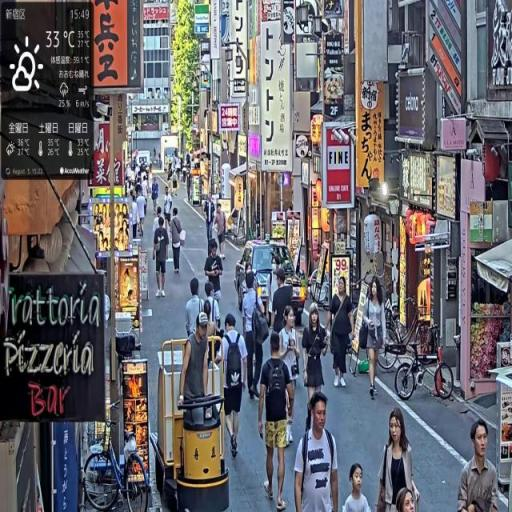person: (257, 330, 295, 512), (293, 389, 340, 512), (376, 406, 423, 512), (219, 312, 250, 460), (457, 420, 501, 512), (242, 271, 270, 401), (302, 304, 330, 431), (326, 274, 356, 391), (179, 311, 212, 416), (359, 279, 386, 400), (343, 463, 373, 512), (154, 215, 171, 300), (205, 241, 225, 295), (186, 279, 203, 341), (171, 207, 184, 278), (215, 203, 228, 262), (152, 179, 161, 215)
